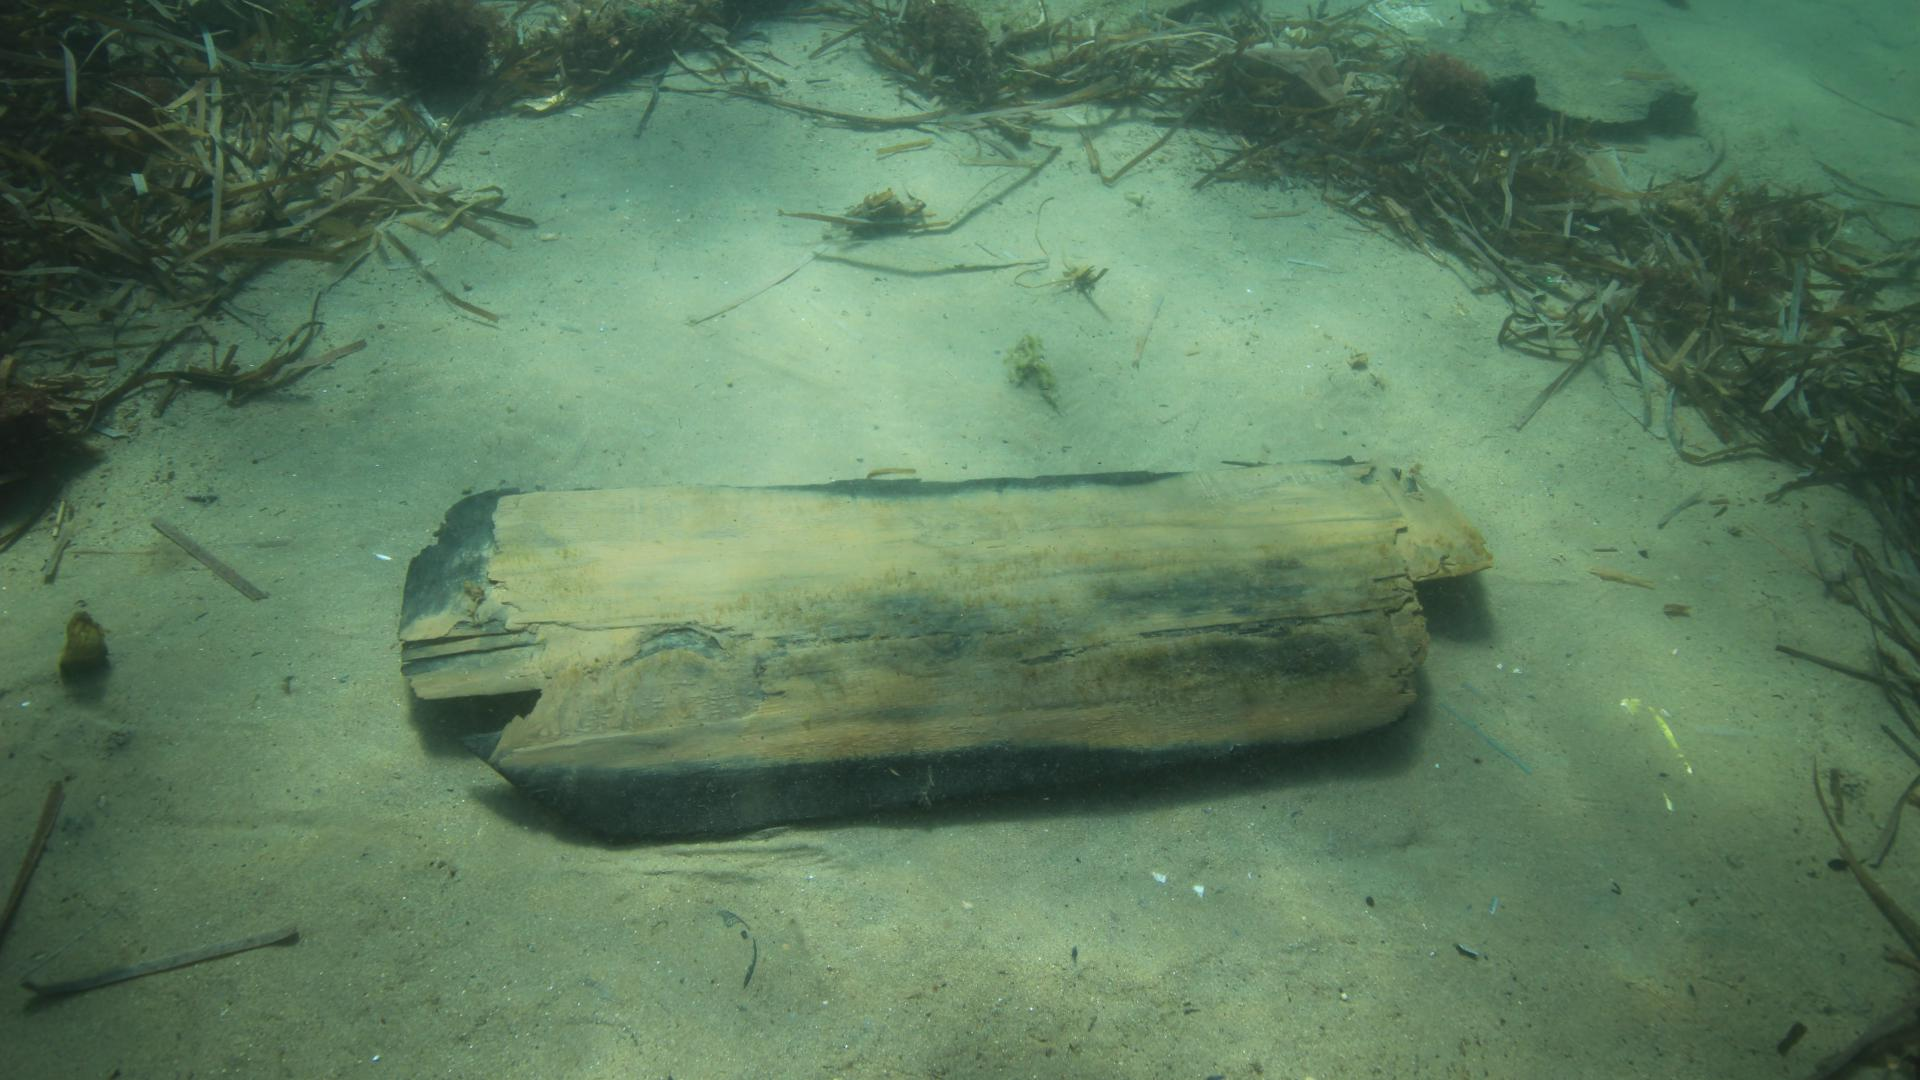wood: (398, 454, 1491, 837)
